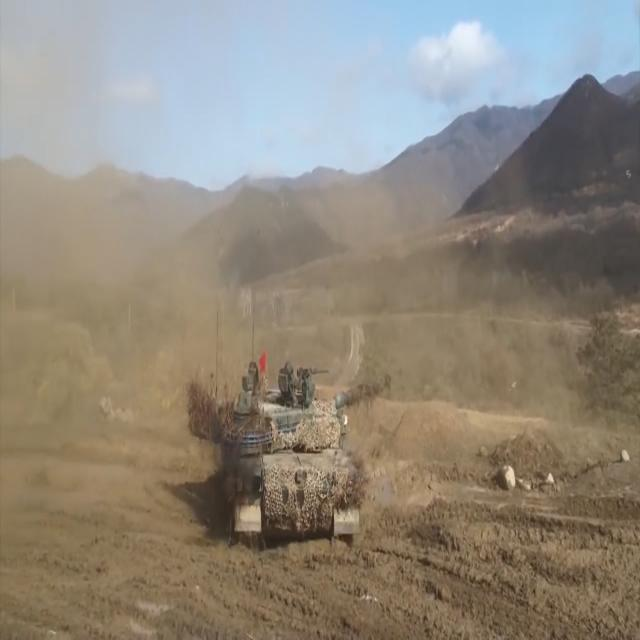korea tank: (188, 362, 392, 546)
